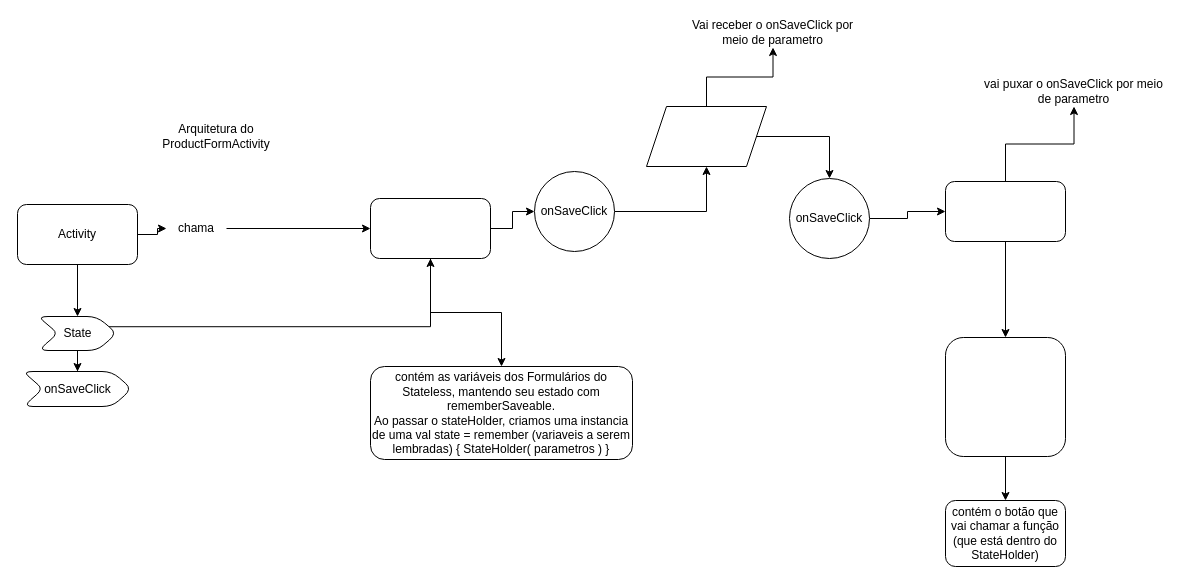
The diagram is 1190 pixels wide and 584 high, and some of its shapes have lost their labels. The centre of each missing label's shape, as x and y in pixels:
"Composable ProductFormScreen STATEFUL" belongs at (430,228).
"Composable ProductFormScreen STATELESS" belongs at (1005,211).
"Contém os Formulários (OutlinedTextField) //urlImagem //nome //preco //descricao" belongs at (1005,396).
"StateHolder" belongs at (706,136).
